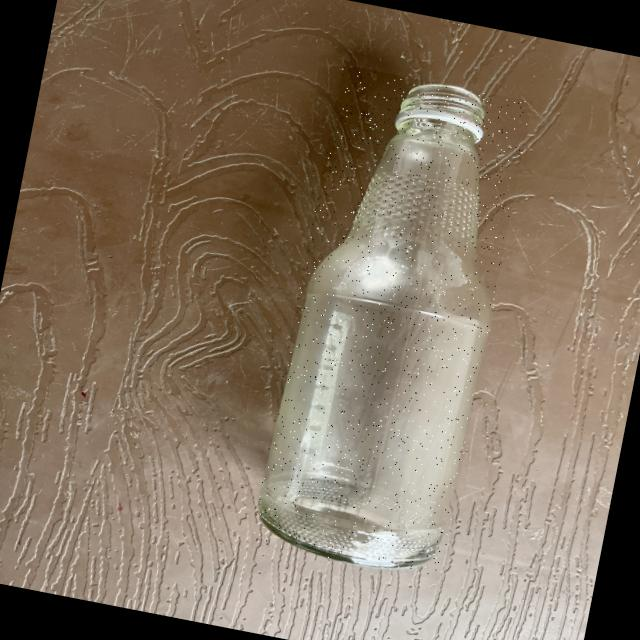Glass_Bottle: (259, 85, 491, 567)
